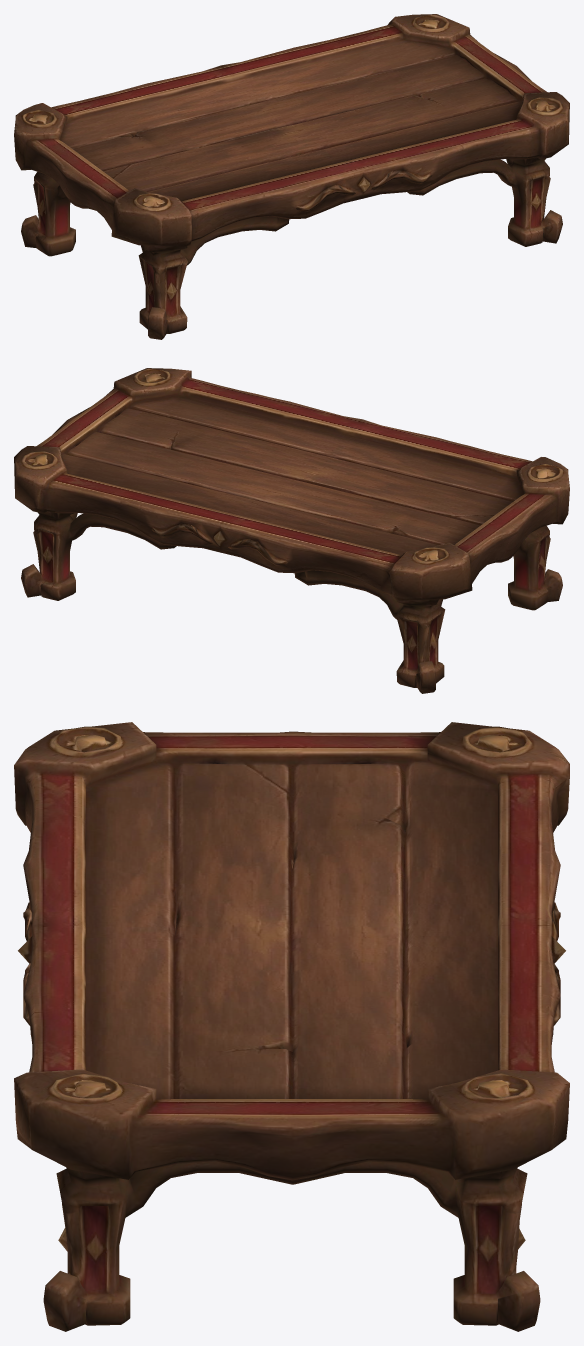
The model's file is OrnateWoodenTable.fbx.
3 views of the same model, one above another, from view 1: azimuth 30°, elevation 25°; view 2: azimuth 150°, elevation 25°; view 3: azimuth 270°, elevation 25° (orthographic). The views are drawn at different scales.
Parts seen in each view (by area): view 1: OrnateWoodenTable; view 2: OrnateWoodenTable; view 3: OrnateWoodenTable.
Part boxes in pixels (x1,y1,x2,y2): OrnateWoodenTable: (14, 14, 569, 339); OrnateWoodenTable: (14, 368, 569, 693); OrnateWoodenTable: (14, 722, 569, 1331).
Size of the model in its own units: 0.998 by 0.2793 by 0.5879.
Materials: 1 (1 with a texture image).
